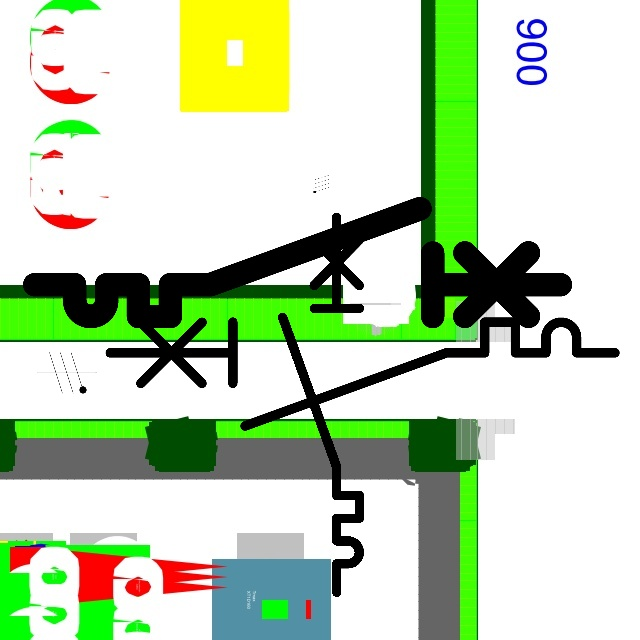interruptor_termomagnetico: (21, 195, 574, 330), (97, 309, 628, 439), (273, 207, 369, 602)
